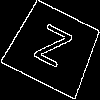Z: (27, 23, 74, 78)
